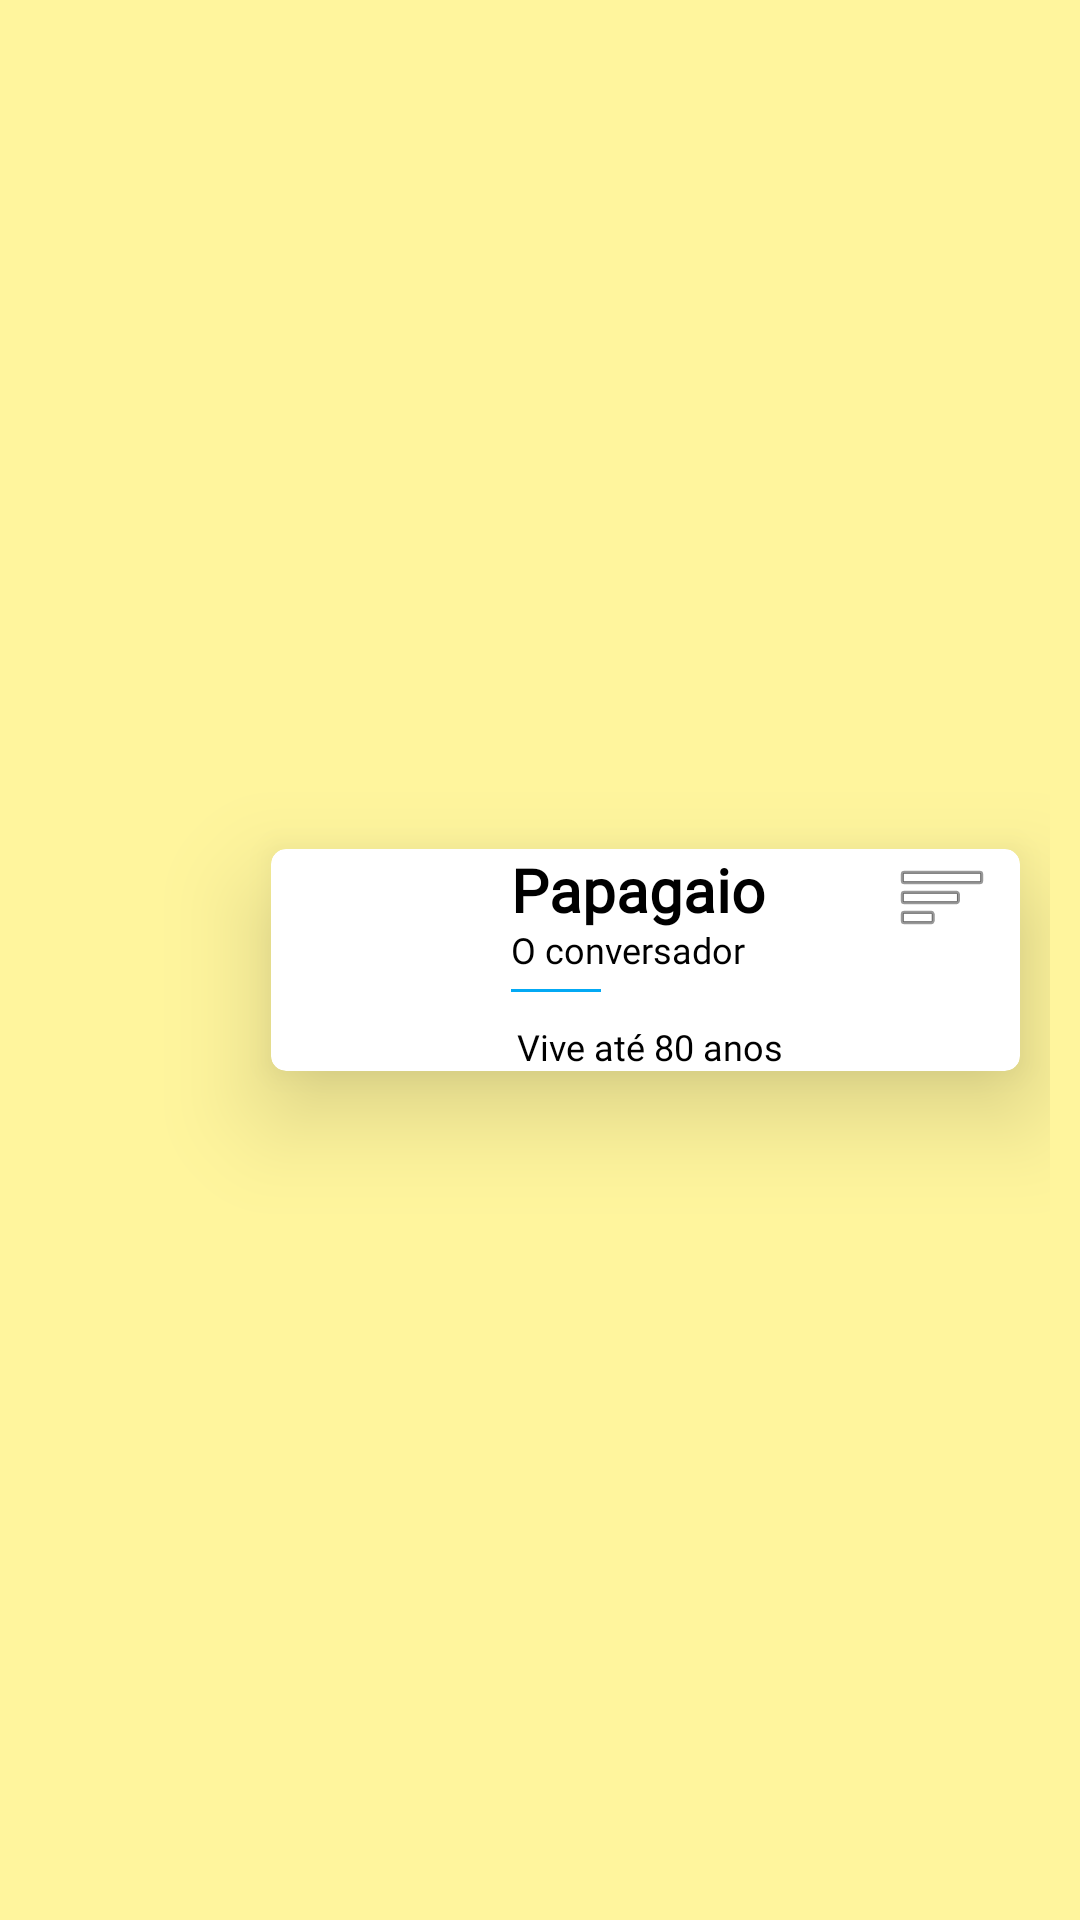

Screen size 1080 × 1920. Icon name, then its center in pixels as (x,y):
sort by size: (942,897)
